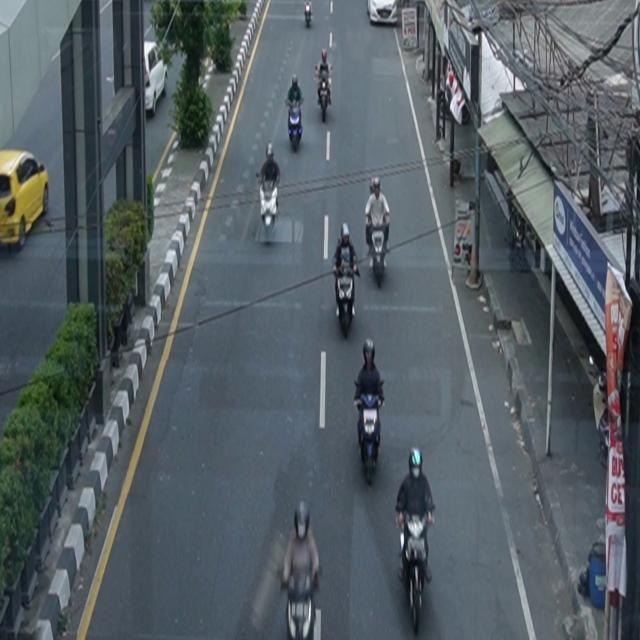car: (1, 149, 50, 251), (144, 41, 169, 117), (367, 1, 398, 26)
